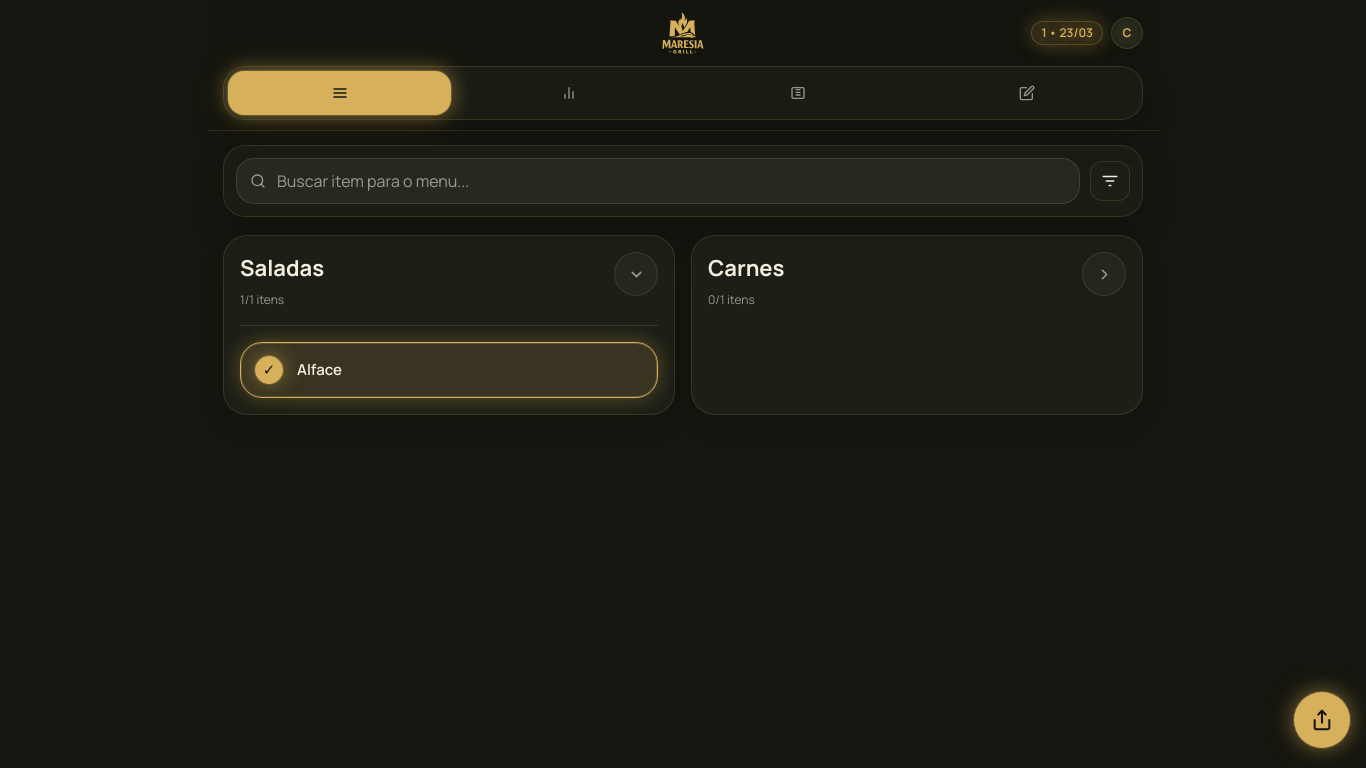
Test: App › shares the daily link when the link option is chosen
The image size is (1366, 768).
Click the button named "Compartilhar menu".
click(1322, 720)  # box 1294,692 -> 1350,748
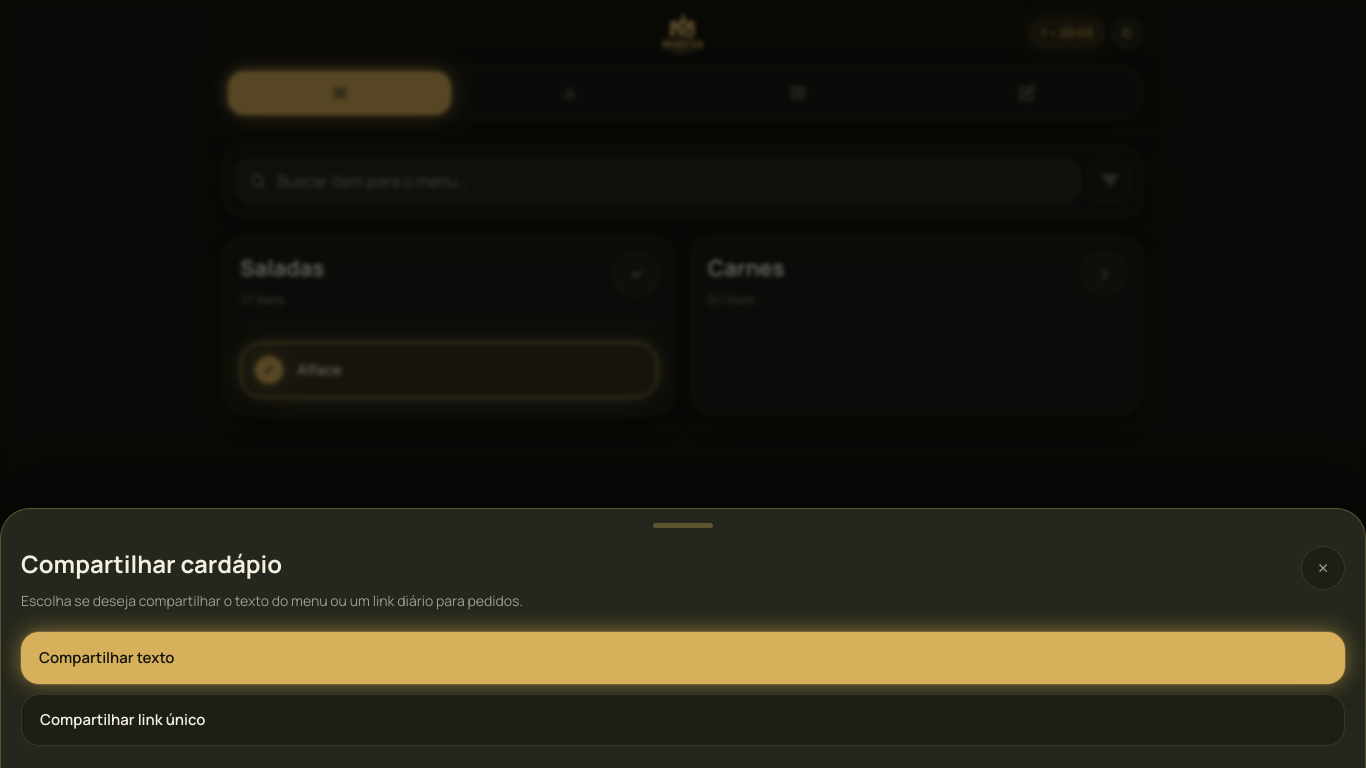
Click the button "Compartilhar link único".
click(123, 719)  # box 21,694 -> 1345,746
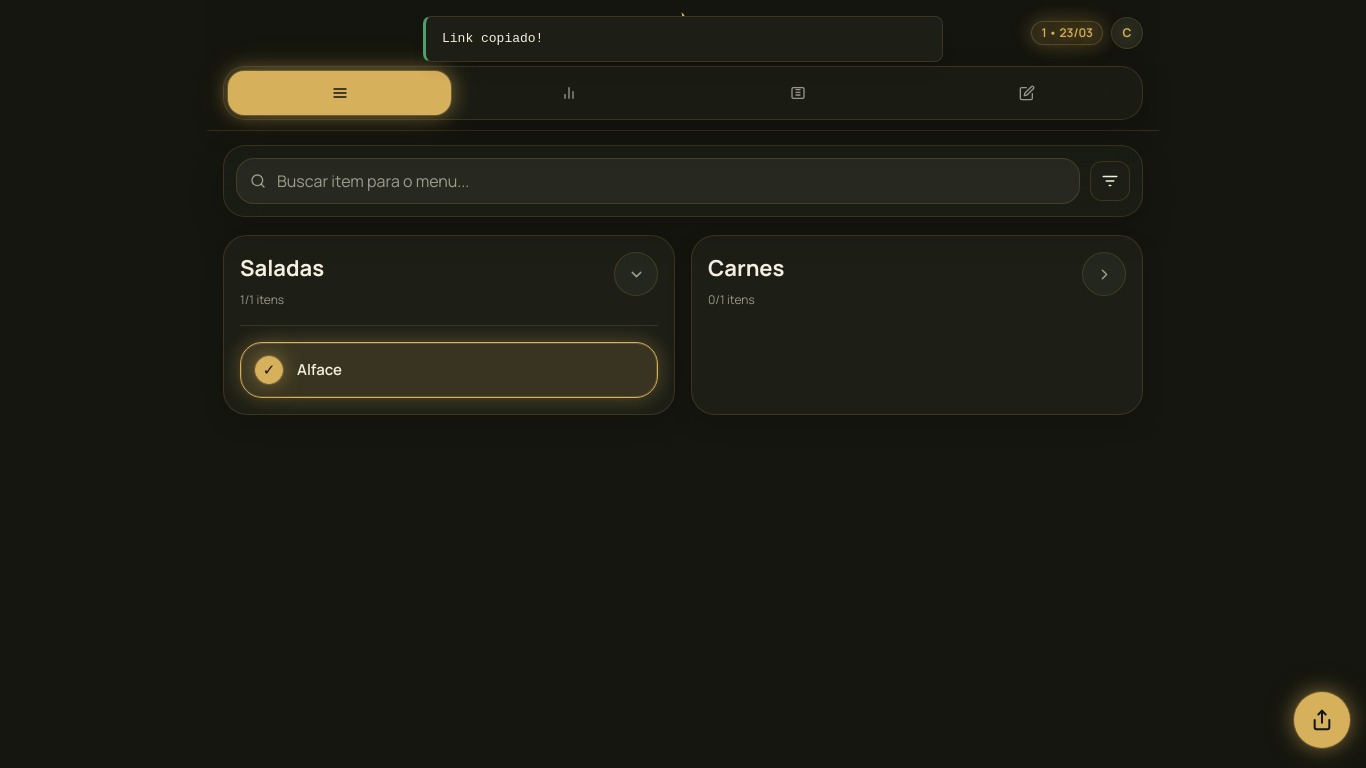
Expected: the text "Link copiado!" is shown, 442,31 -> 543,46
